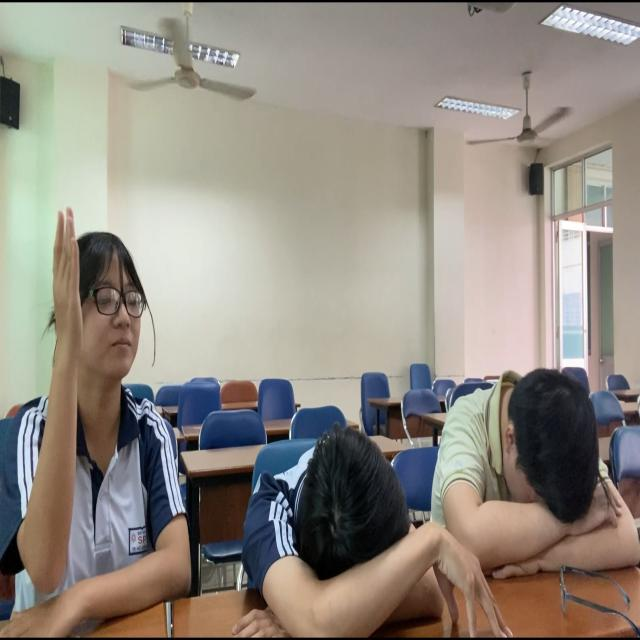raise_hand: (5, 203, 195, 631)
sleep: (232, 435, 474, 640), (438, 377, 640, 588)
